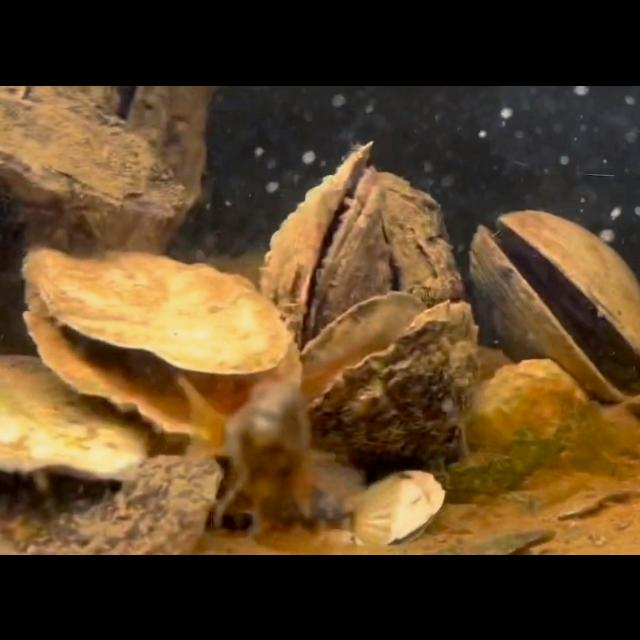Oyster-Closed: (0, 85, 184, 221), (1, 452, 226, 554), (425, 359, 583, 495), (0, 355, 146, 487), (369, 171, 459, 311)
Oyster-Open: (18, 247, 300, 441), (462, 211, 640, 407), (287, 294, 478, 474), (46, 85, 210, 262), (252, 143, 390, 353), (346, 470, 444, 550)
